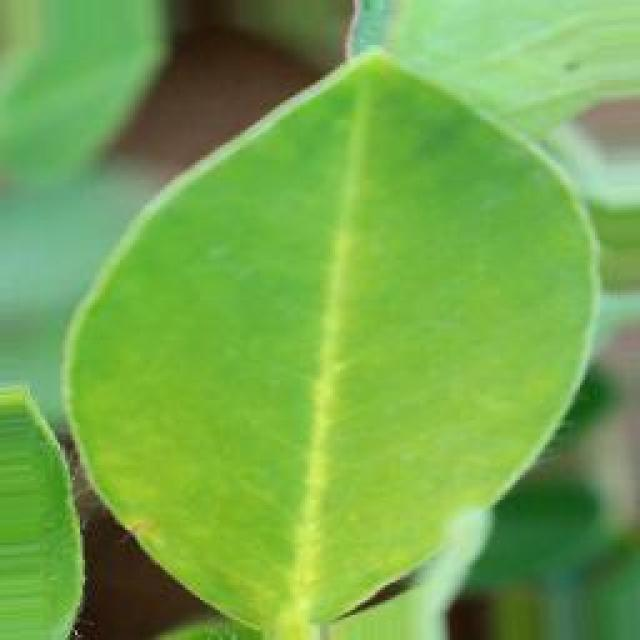Yellow_and_black_sigatoka: (68, 30, 600, 640)
